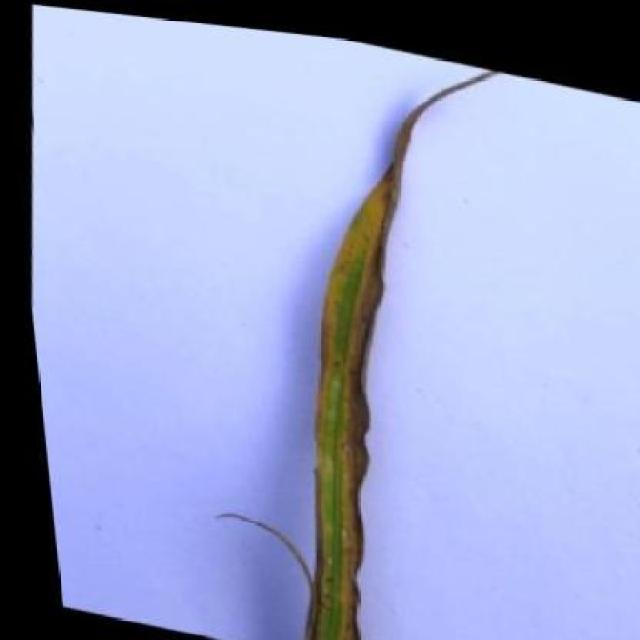Rice False Smut: (233, 131, 442, 640)
